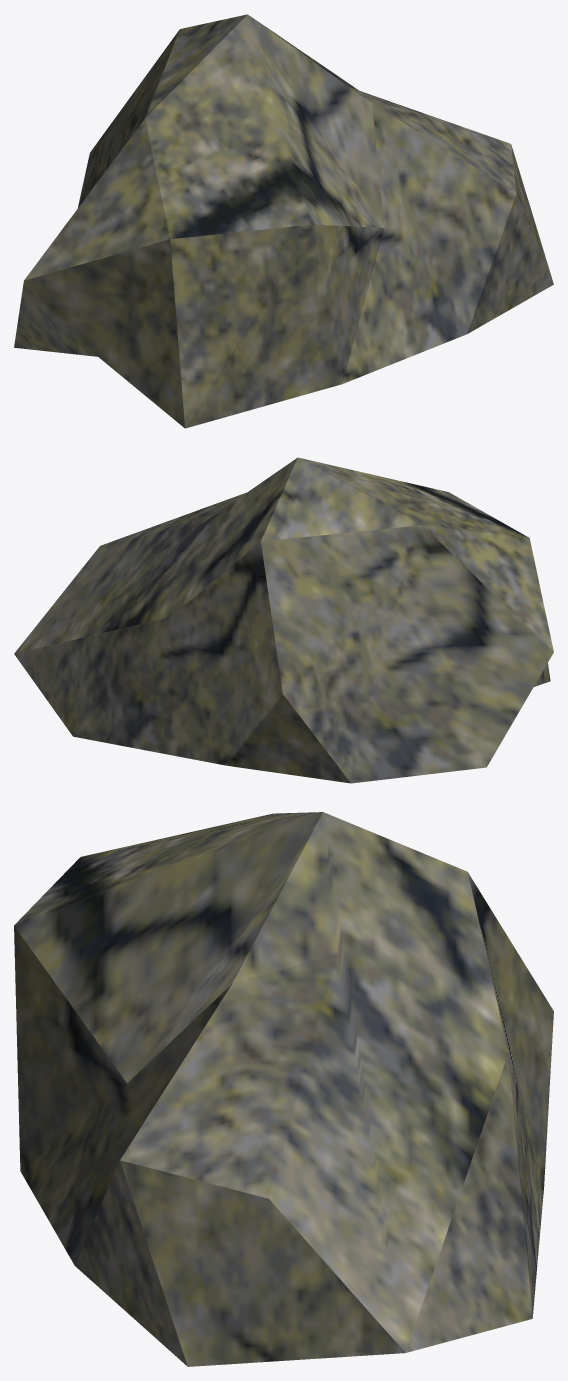
The model's file is rockMedMossy.fbx.
The picture shows the model from 3 angles, top to bottom: view 1: azimuth 30°, elevation 25°; view 2: azimuth 150°, elevation 25°; view 3: azimuth 270°, elevation 25°; orthographic projection. The views are drawn at different scales.
Visible parts, largest first — view 1: rockMedium; view 2: rockMedium; view 3: rockMedium.
Boxes of the visible parts, x1=… form: rockMedium: x1=14, y1=14, x2=553, y2=428; rockMedium: x1=14, y1=457, x2=553, y2=783; rockMedium: x1=14, y1=812, x2=553, y2=1366.
Size of the model in its own units: 5.01 by 3.25 by 2.62.
Materials: 1 (1 with a texture image).
